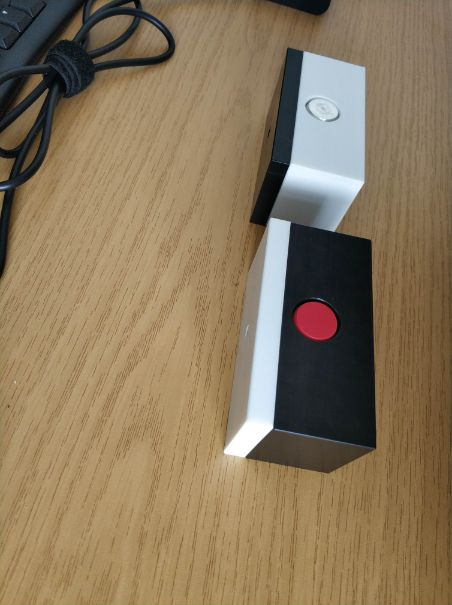black+white+silver: (246, 45, 370, 233)
white+black+red: (217, 215, 379, 478)
